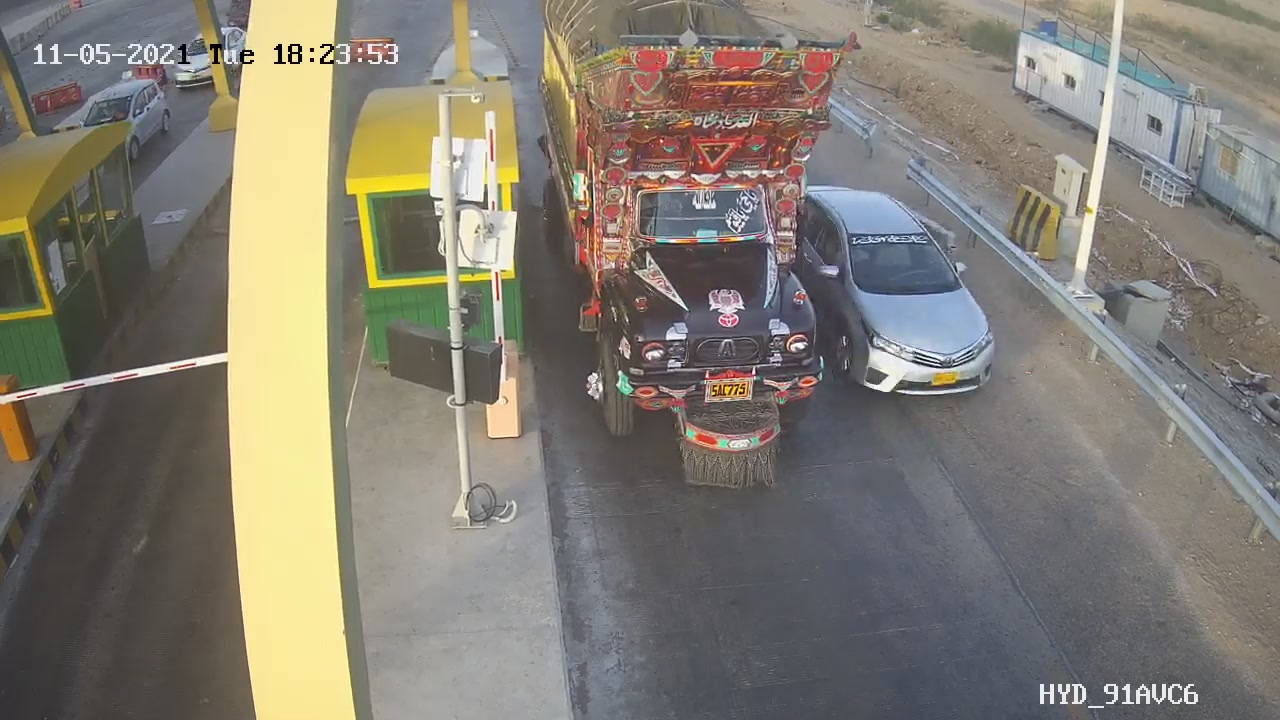F5: (529, 26, 868, 491)
